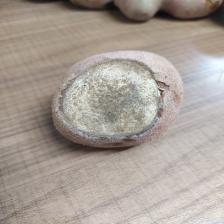Damaged potato: (48, 48, 186, 152)
